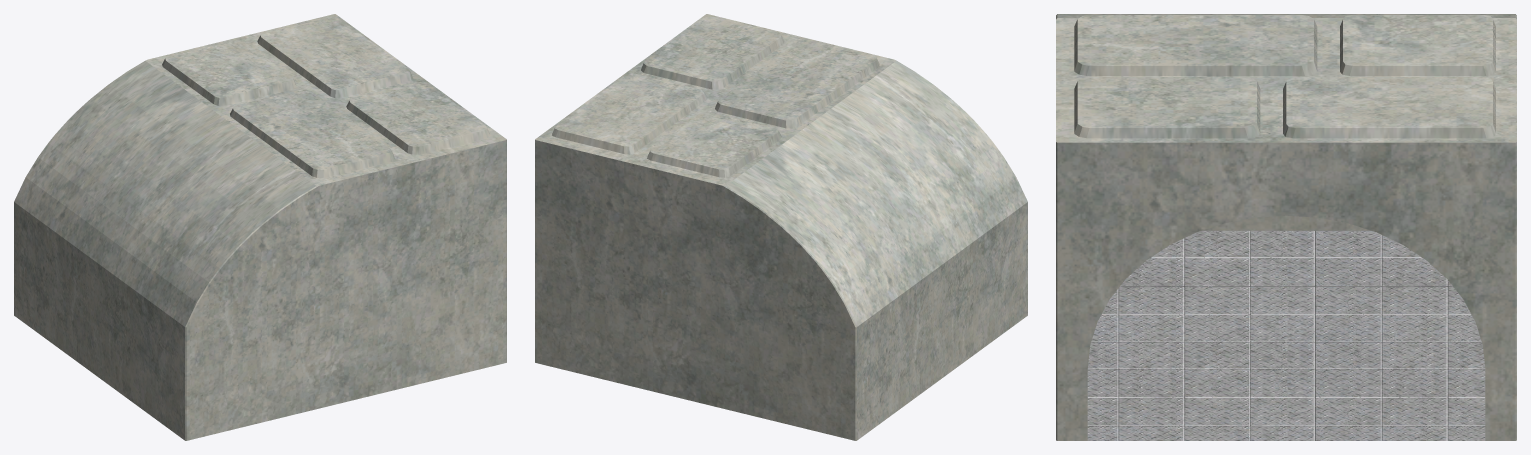
File: thm_all_cantina_r11_office_mesh_r11.fbx
The picture shows the model from 3 angles, left to right: view 1: azimuth 30°, elevation 25°; view 2: azimuth 150°, elevation 25°; view 3: azimuth 270°, elevation 25°; orthographic projection. The views are drawn at different scales.
Visible parts, largest first — view 1: mesh_node; view 2: mesh_node; view 3: mesh_node.
Boxes of the visible parts, left/top/right/bottom form: mesh_node: left=14, top=14, right=506, bottom=440; mesh_node: left=535, top=14, right=1027, bottom=440; mesh_node: left=1056, top=14, right=1516, bottom=440.
Size of the model in its own units: 7.56 by 5.15 by 7.
